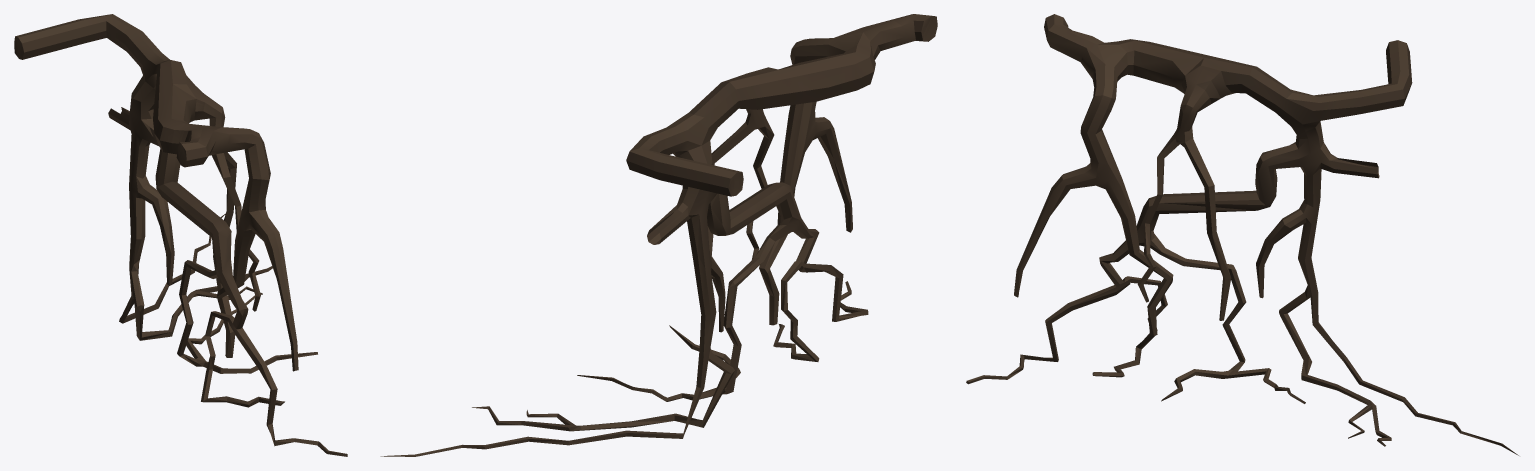
The model's file is ea_environment_nature_root_2c_pre__2__lev1.glb.
3 renders of one model, left to right at view 1: azimuth 30°, elevation 25°; view 2: azimuth 150°, elevation 25°; view 3: azimuth 270°, elevation 25°, orthographic. The views are drawn at different scales.
Parts seen in each view (by area): view 1: ea_environment_nature_root_2c_pre__2__lev1; view 2: ea_environment_nature_root_2c_pre__2__lev1; view 3: ea_environment_nature_root_2c_pre__2__lev1.
Boxes of the visible parts, bbox=[...] form: ea_environment_nature_root_2c_pre__2__lev1: bbox=[14, 14, 347, 456]; ea_environment_nature_root_2c_pre__2__lev1: bbox=[380, 14, 937, 456]; ea_environment_nature_root_2c_pre__2__lev1: bbox=[966, 14, 1518, 455].
Bounding box in the file's own units: 2.02 × 2.16 × 3.45.
1 material, 1 textured.
